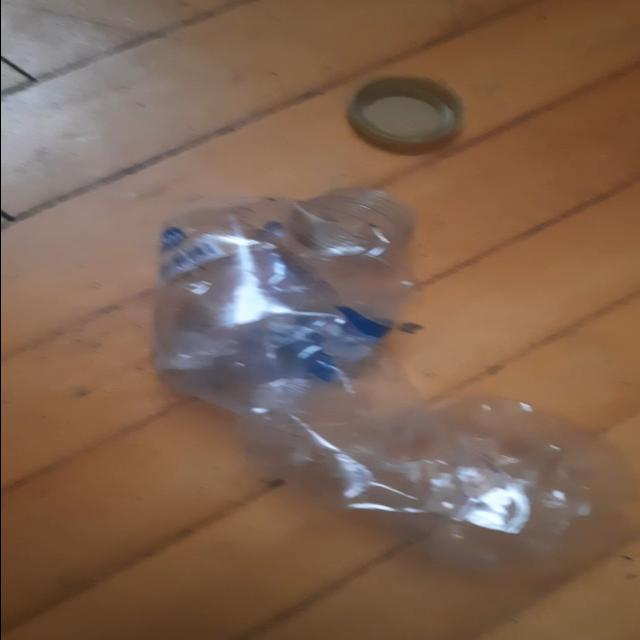Plastic: (151, 190, 615, 545)
